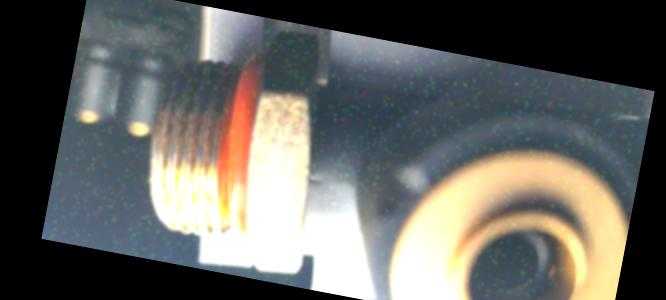bump: (374, 156, 439, 229)
white mark: (302, 169, 329, 191)
